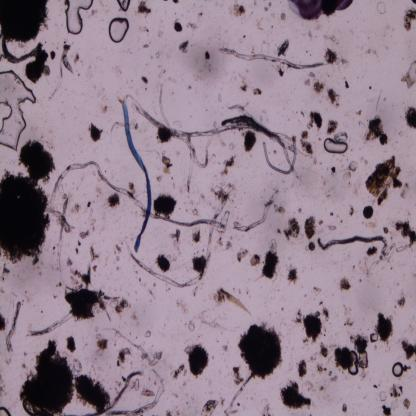Air bubble: (0, 69, 37, 151), (65, 1, 94, 36), (107, 18, 130, 44), (322, 137, 348, 154), (348, 350, 359, 376), (391, 362, 404, 378), (117, 0, 131, 13), (0, 403, 11, 415)
Background material: (0, 137, 53, 266), (22, 338, 75, 414), (240, 320, 283, 378), (0, 0, 52, 44), (364, 153, 404, 205), (63, 278, 109, 323), (74, 374, 111, 412), (278, 378, 312, 410), (215, 287, 251, 316), (369, 311, 394, 345), (184, 342, 209, 376), (296, 310, 322, 341), (349, 334, 369, 372), (362, 116, 388, 145), (26, 52, 51, 82), (262, 238, 280, 279), (394, 219, 416, 251), (152, 190, 176, 218), (337, 298, 355, 330), (400, 56, 416, 89), (334, 345, 354, 370), (109, 295, 131, 317), (156, 146, 174, 172), (75, 229, 93, 253), (299, 128, 315, 154), (388, 384, 403, 411), (243, 129, 258, 156), (401, 8, 416, 34), (84, 203, 98, 230), (284, 217, 300, 240), (402, 105, 416, 130), (154, 256, 175, 272), (342, 163, 358, 184), (87, 119, 102, 141), (200, 397, 218, 415), (214, 235, 233, 252), (304, 214, 316, 240), (222, 154, 236, 176), (306, 111, 322, 130), (401, 340, 416, 360), (326, 87, 340, 108), (114, 240, 123, 272), (286, 265, 299, 286), (115, 345, 129, 364), (296, 358, 308, 380), (96, 332, 109, 352), (276, 39, 290, 57), (192, 256, 206, 274), (324, 47, 337, 66), (64, 334, 76, 354), (137, 0, 152, 16), (235, 247, 250, 262), (233, 2, 247, 18), (170, 364, 186, 378), (108, 193, 121, 210), (327, 118, 339, 136), (87, 244, 100, 260), (339, 276, 352, 292), (178, 39, 190, 55), (362, 204, 374, 220), (366, 242, 378, 258), (232, 368, 242, 386), (399, 182, 411, 197), (249, 253, 260, 269), (170, 228, 182, 242), (327, 369, 339, 383), (396, 292, 407, 307), (319, 342, 329, 358), (312, 79, 324, 92), (322, 34, 337, 44), (378, 1, 386, 19), (98, 101, 110, 113), (274, 203, 286, 215), (252, 85, 263, 97), (381, 404, 392, 416), (322, 306, 330, 322), (193, 226, 201, 242), (186, 21, 200, 30), (4, 264, 10, 285), (346, 203, 355, 217), (402, 396, 410, 411), (140, 23, 150, 35), (377, 389, 387, 401), (263, 0, 272, 13), (187, 321, 196, 334), (140, 74, 148, 88), (173, 21, 183, 32), (312, 286, 322, 296), (352, 108, 364, 116), (308, 241, 316, 253), (74, 52, 80, 64), (328, 224, 337, 232), (50, 49, 56, 61), (221, 343, 229, 352), (317, 384, 326, 392), (279, 12, 287, 21), (204, 50, 211, 60), (316, 364, 326, 371), (344, 79, 350, 90), (240, 84, 248, 92), (297, 206, 305, 214), (309, 70, 317, 78), (341, 403, 347, 413), (331, 168, 337, 177), (154, 52, 160, 61), (170, 0, 180, 5), (341, 60, 349, 66), (383, 226, 389, 234), (318, 218, 324, 226), (328, 211, 334, 217), (367, 85, 372, 91), (306, 80, 310, 86)
Cellulose filter fibre: (50, 160, 223, 235), (129, 94, 306, 154), (129, 186, 232, 287), (157, 84, 194, 192), (218, 47, 325, 72), (232, 188, 280, 232), (108, 379, 166, 414), (316, 233, 396, 258), (57, 196, 77, 291), (111, 329, 161, 366), (106, 366, 145, 410), (225, 372, 254, 415), (52, 44, 73, 95), (26, 314, 72, 336), (0, 39, 41, 63), (5, 300, 21, 355)
Cotton: (119, 99, 152, 253)
Microfibre: (262, 137, 298, 178)
Pen: (287, 0, 353, 23)
